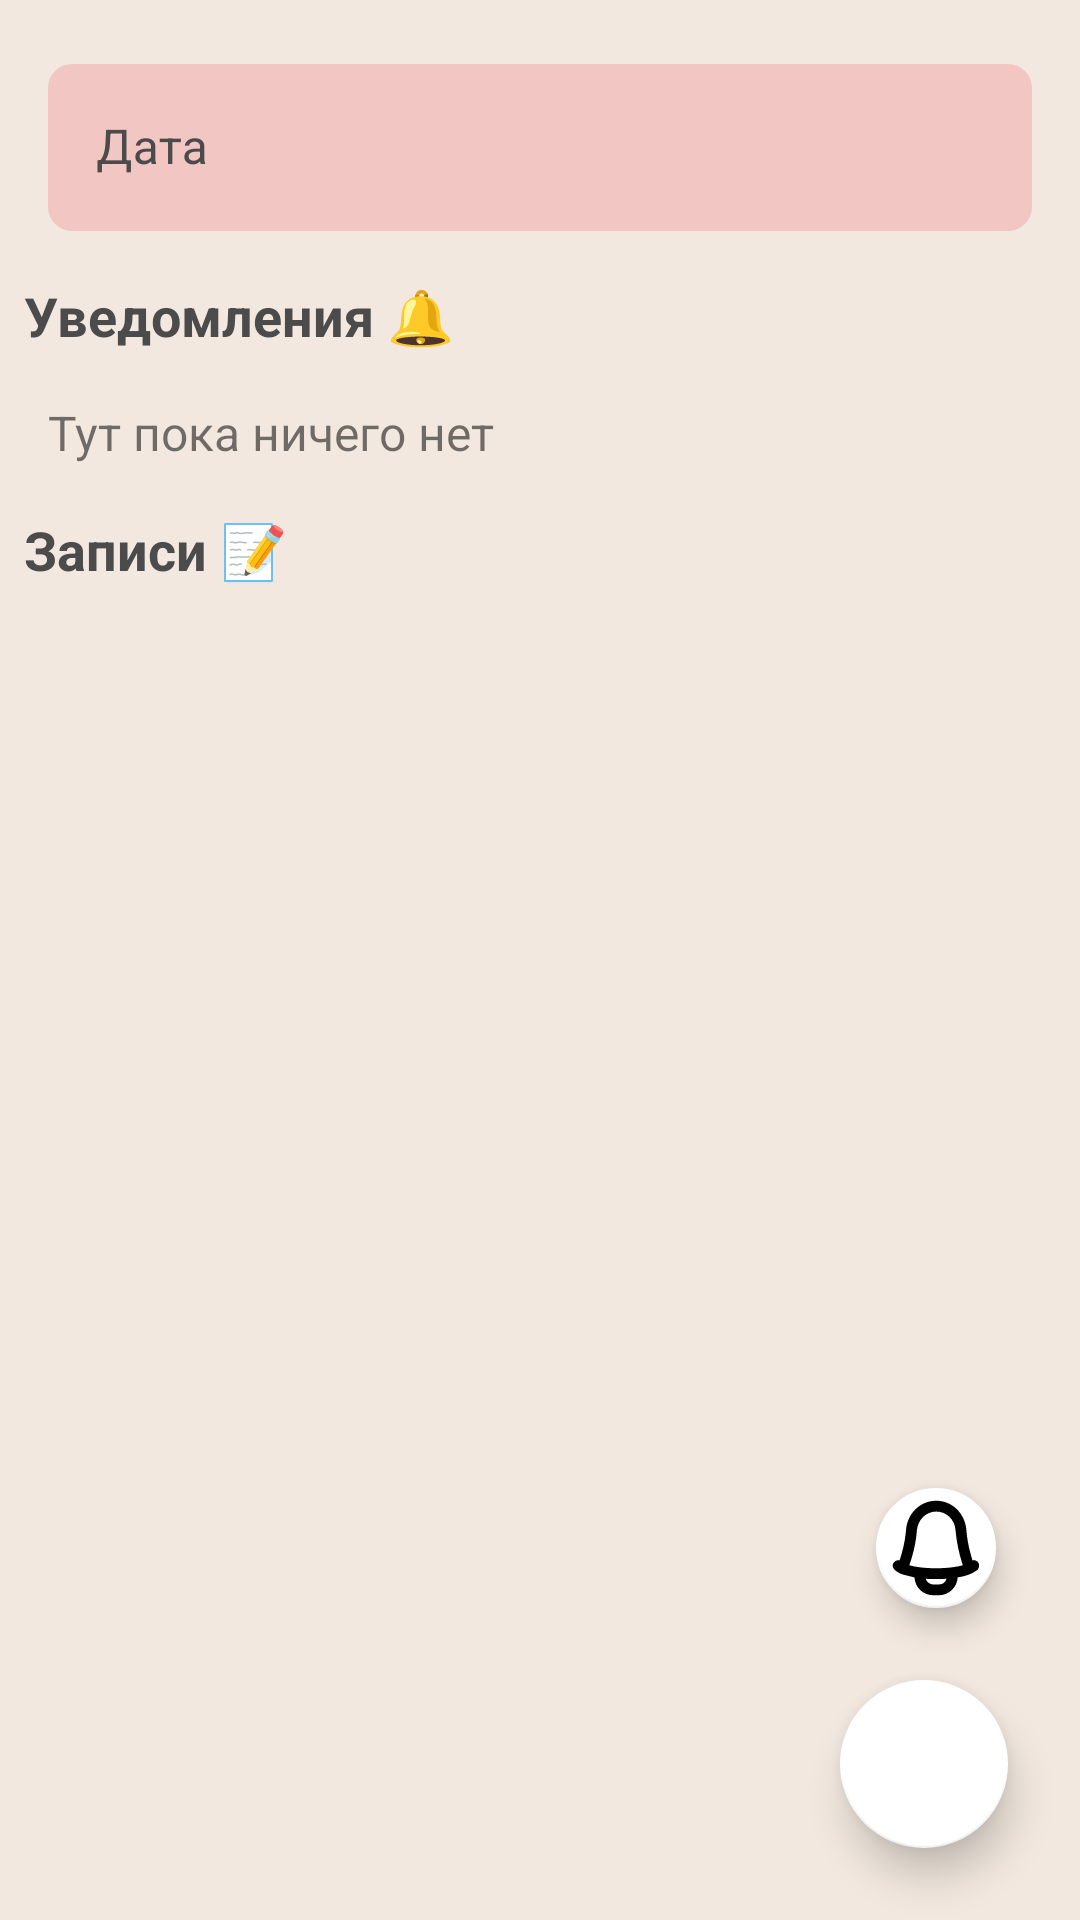

Where icons sit on this 1080*1920 app screen, as (x1, y1, x2, y2):
Новое уведмоиление: (876, 1488, 998, 1620)
